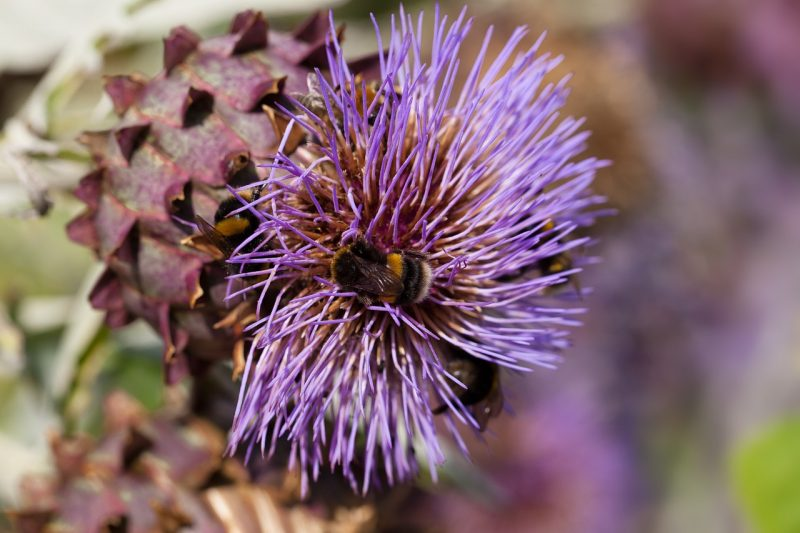thistle: (123, 10, 610, 445)
